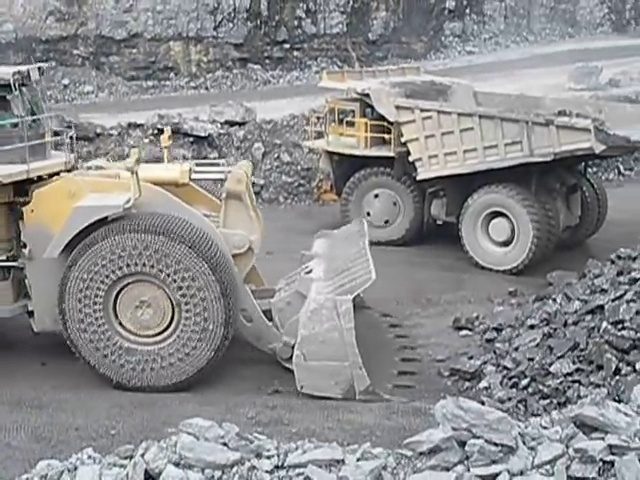dumper: (308, 63, 640, 272)
wheel loader: (2, 61, 425, 405)
